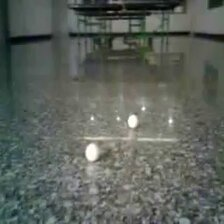w: (84, 143, 100, 162), (126, 114, 140, 128)
